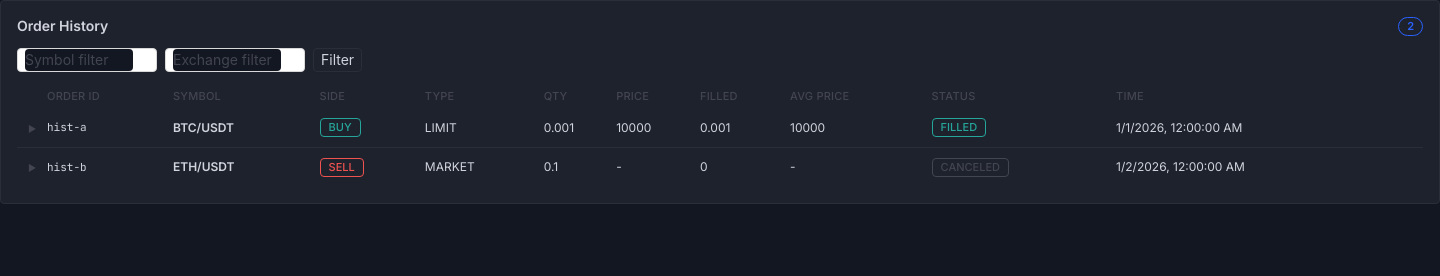
Test: OrderHistoryTable › toggles .expand-row on row click
Click the row with class "history-row" that starts with "hist-a" at (720, 128), box [17,108,1423,147]
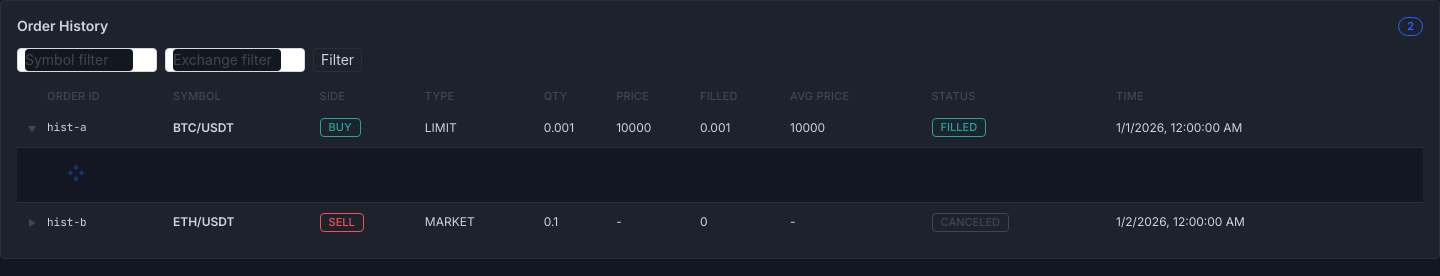
Check: the number of rows with class "expand-row" is 1, box [17,147,1423,202]
Click the row with class "history-row" that starts with "hist-a" at (720, 128), box [17,108,1423,147]
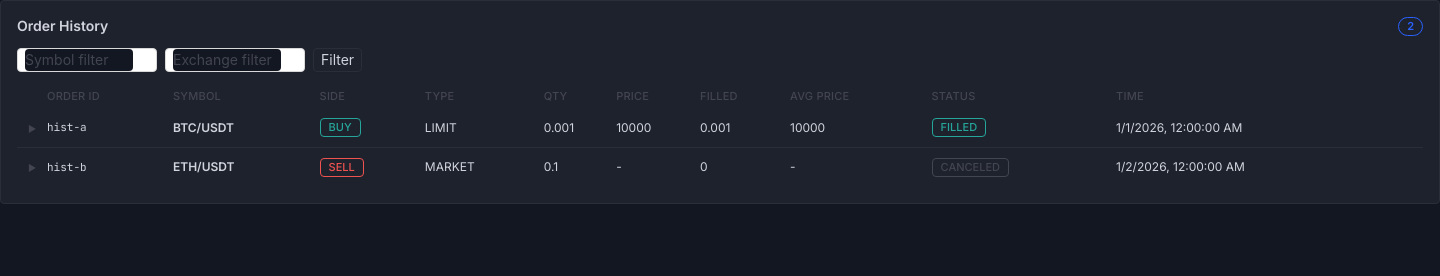
Check: no rows with class "expand-row" are shown
